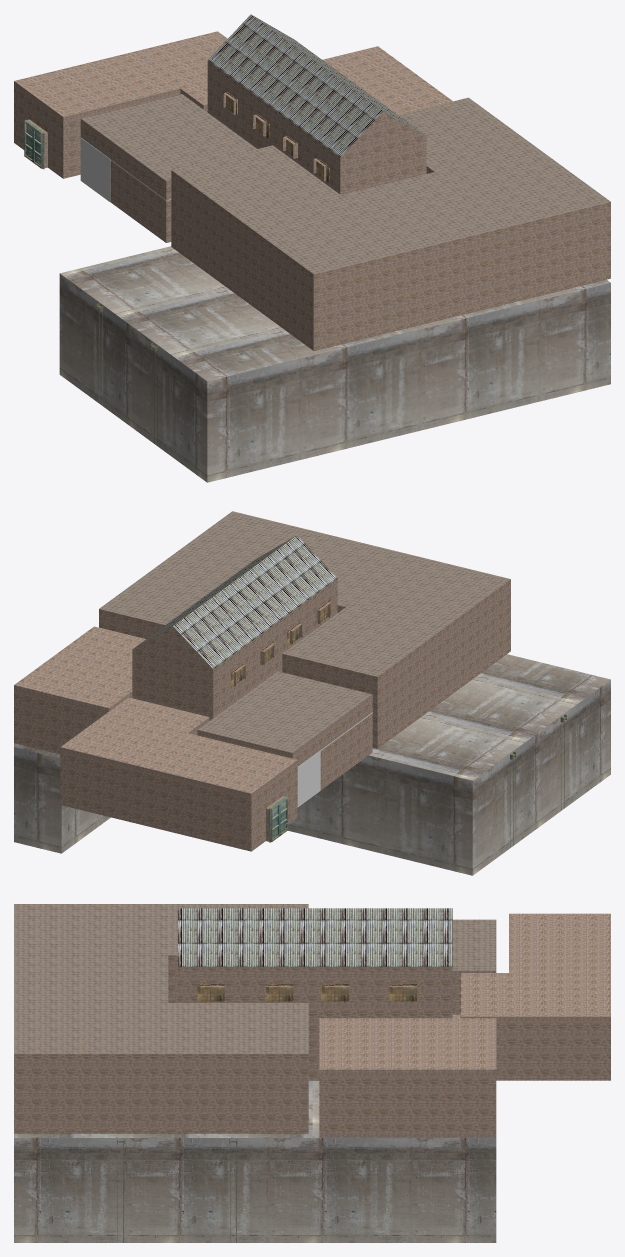
The model's file is level.fbx.
3 views of the same model, one above another, from view 1: azimuth 30°, elevation 25°; view 2: azimuth 150°, elevation 25°; view 3: azimuth 270°, elevation 25° (orthographic). The views are drawn at different scales.
Parts seen in each view (by area): view 1: Basement, Room.003, Main Corridor, Entrance, Room.004, Room.002, Ambiguous Silo Thing; view 2: Basement, Room.003, Entrance, Main Corridor, Room.004, Room.002, Ambiguous Silo Thing; view 3: Room.003, Basement, Main Corridor, Room.002, Entrance, Room.004, WindowsIndustrial0227_S, WindowsIndustrial0227_S.001, WindowsIndustrial0227_S.002, WindowsIndustrial0227_S.003.
Part boxes in pixels (bbox=[...]): Basement: bbox=[59, 246, 610, 482]; Room.003: bbox=[171, 97, 610, 350]; Main Corridor: bbox=[207, 14, 426, 194]; Entrance: bbox=[14, 31, 227, 178]; Room.004: bbox=[80, 94, 256, 242]; Room.002: bbox=[322, 46, 452, 114]; Ambiguous Silo Thing: bbox=[80, 138, 171, 201]; Basement: bbox=[14, 654, 610, 875]; Room.003: bbox=[99, 511, 510, 748]; Entrance: bbox=[60, 697, 297, 851]; Main Corridor: bbox=[132, 535, 337, 720]; Room.004: bbox=[197, 671, 372, 789]; Room.002: bbox=[14, 626, 145, 754]; Ambiguous Silo Thing: bbox=[297, 712, 372, 807]; Room.003: bbox=[14, 904, 308, 1133]; Basement: bbox=[14, 1080, 496, 1242]; Main Corridor: bbox=[178, 908, 460, 1080]; Room.002: bbox=[319, 1018, 496, 1137]; Entrance: bbox=[460, 913, 610, 1080]; Room.004: bbox=[452, 919, 496, 1014]; WindowsIndustrial0227_S: bbox=[265, 984, 293, 1001]; WindowsIndustrial0227_S.001: bbox=[197, 984, 224, 1001]; WindowsIndustrial0227_S.002: bbox=[389, 984, 416, 1001]; WindowsIndustrial0227_S.003: bbox=[321, 984, 348, 1001].
Bounding box in the file's own units: 4412 × 2614 × 5415.
